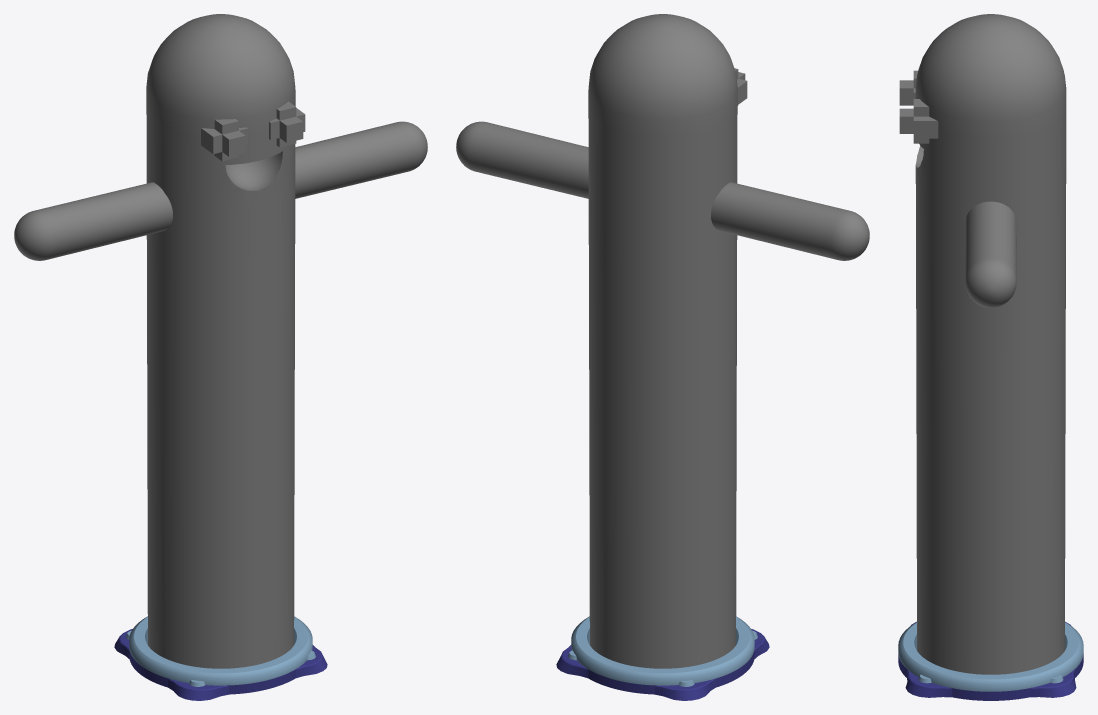
File: Floopy.fbx
The picture shows the model from 3 angles, left to right: view 1: azimuth 30°, elevation 25°; view 2: azimuth 150°, elevation 25°; view 3: azimuth 270°, elevation 25°; orthographic projection.
Parts seen in each view (by area): view 1: Floopy, corners; view 2: Floopy, corners; view 3: Floopy, corners.
Boxes of the visible parts, x1,y1,x2,y2 form: Floopy: (14, 14, 427, 694); corners: (114, 629, 327, 700); Floopy: (456, 14, 869, 694); corners: (556, 629, 769, 700); Floopy: (898, 14, 1083, 700); corners: (905, 621, 1076, 697).
Size of the model in its own units: 149 by 222 by 58.28.
